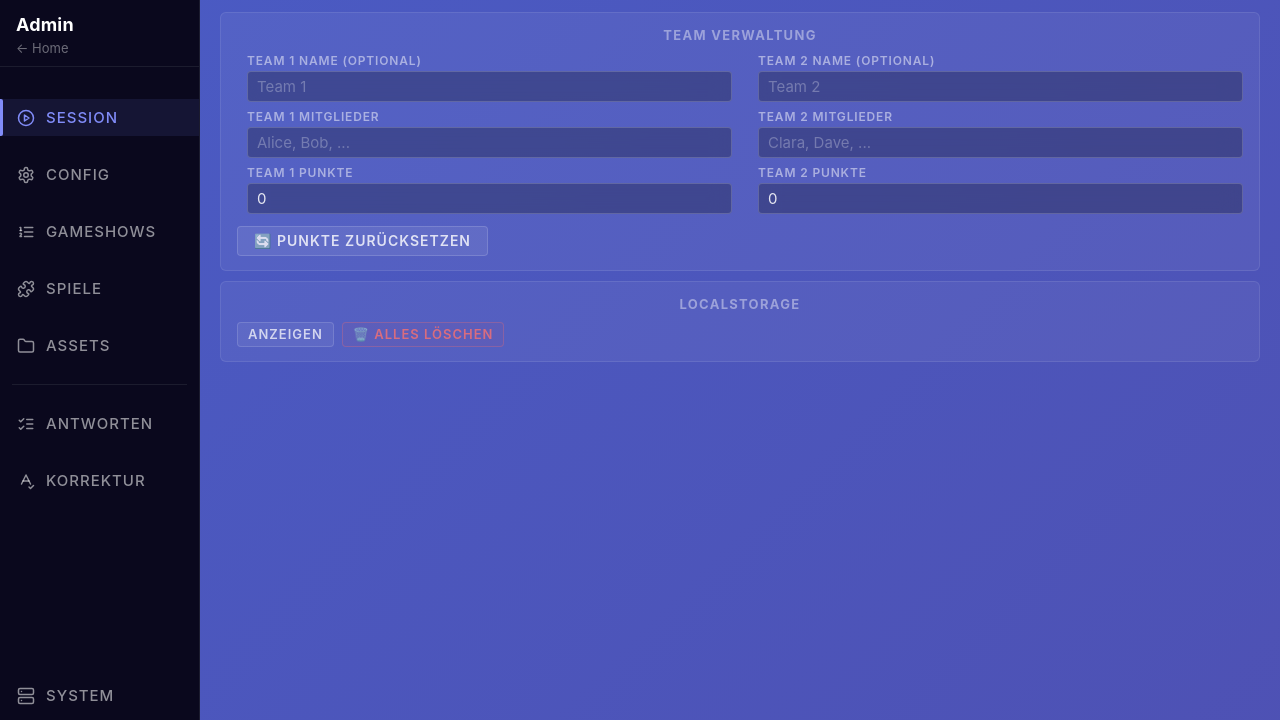
Test: AdminScreen - Gaps › shows empty storage message when localStorage is empty
This screenshot has width=1280, height=720.
Click the button "Anzeigen".
click(285, 334)  # box [237, 322, 334, 347]
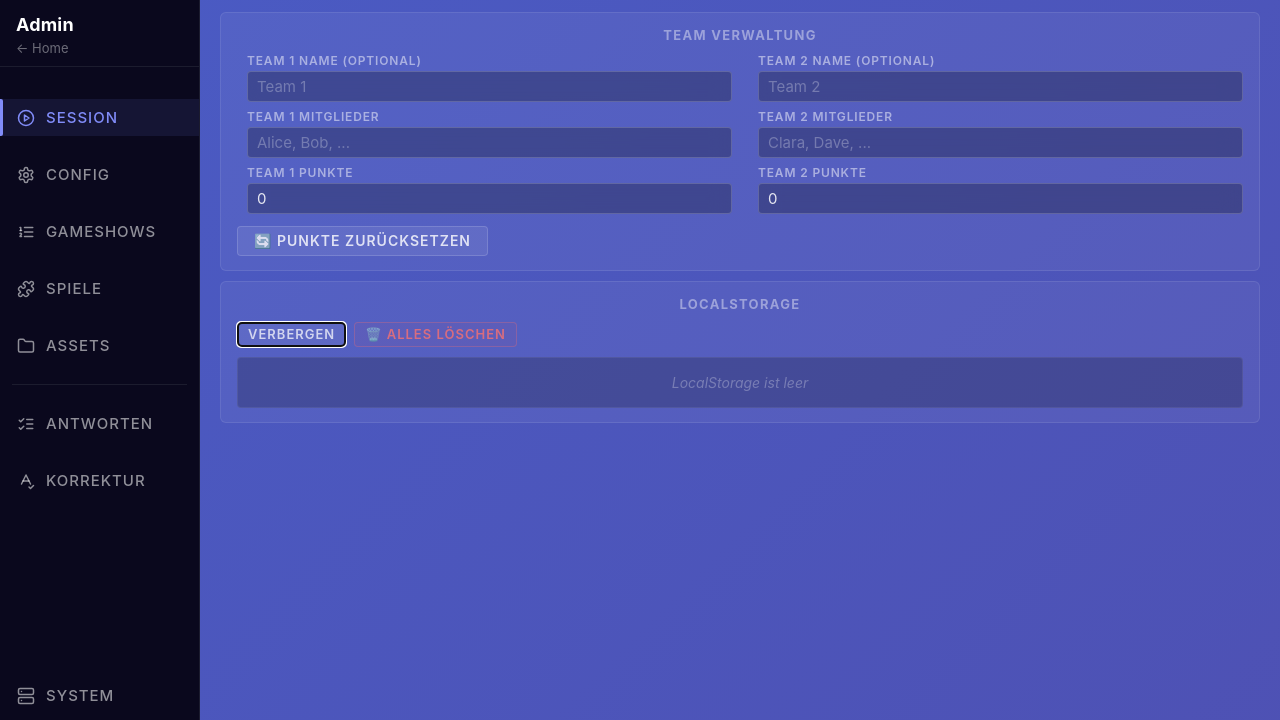
Expected: the text "LocalStorage ist leer" is shown, [672, 374, 808, 391]
